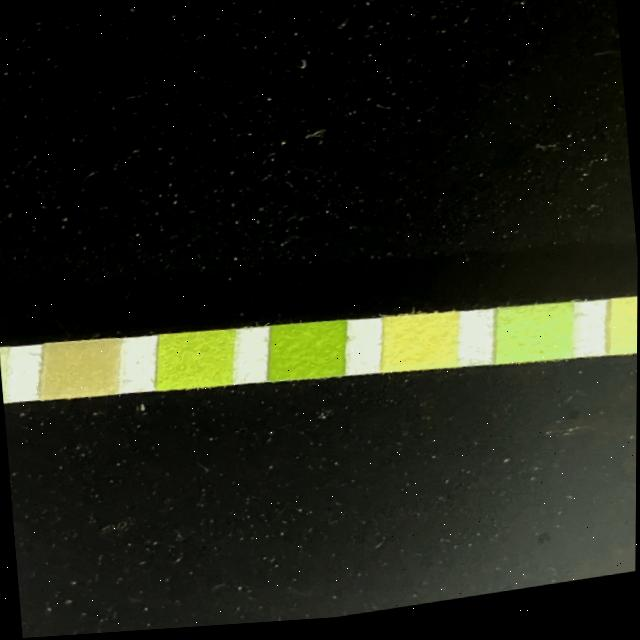Blood: (274, 324, 345, 385)
Ketone: (47, 338, 119, 399)
Protein: (498, 311, 573, 369)
SpGravity: (162, 331, 230, 391)
Urobilinogen: (614, 308, 638, 363)
pH: (387, 316, 456, 377)
